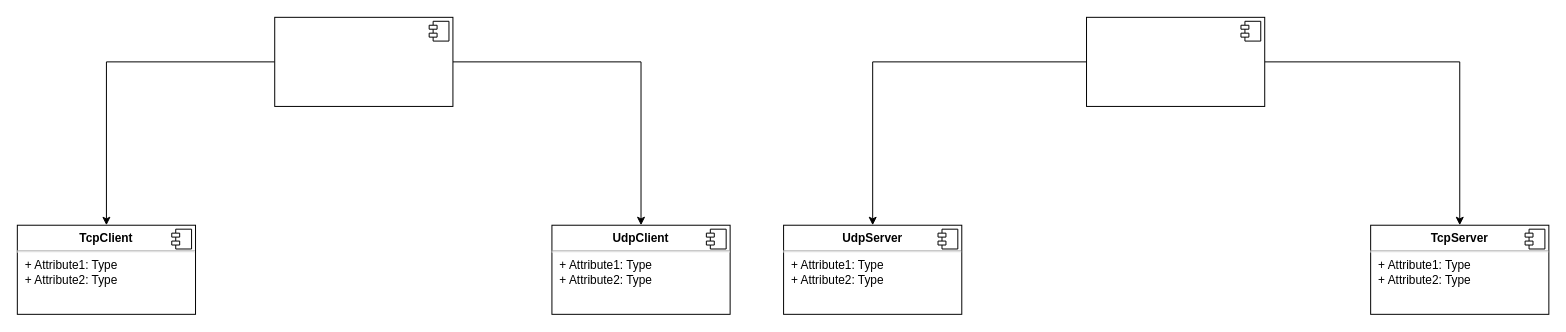
Some shapes in this 1566 by 332 pixel diagram are drawn without their labels. The shapes that lost their labels are listed below. From the top down, each one's box as (x1, y1, x2, y2) in pixels, then its label:
(274, 16, 453, 106): Client + Attribute1: Type + Attribute2: Type
(1086, 16, 1265, 106): Server + Attribute1: Type + Attribute2: Type
